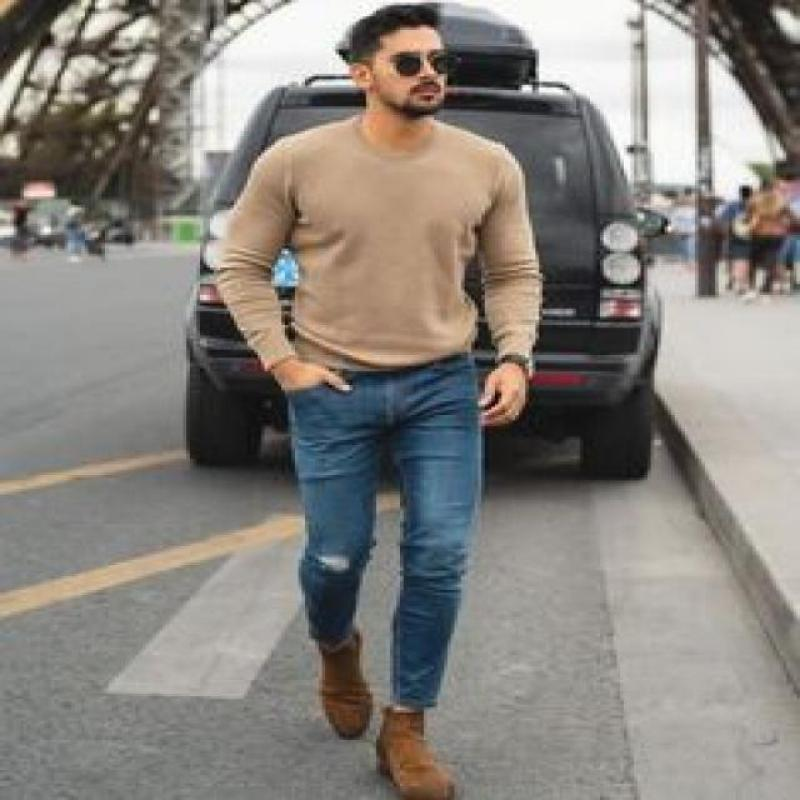sweater: (213, 110, 543, 380)
trousers: (275, 351, 488, 716)
